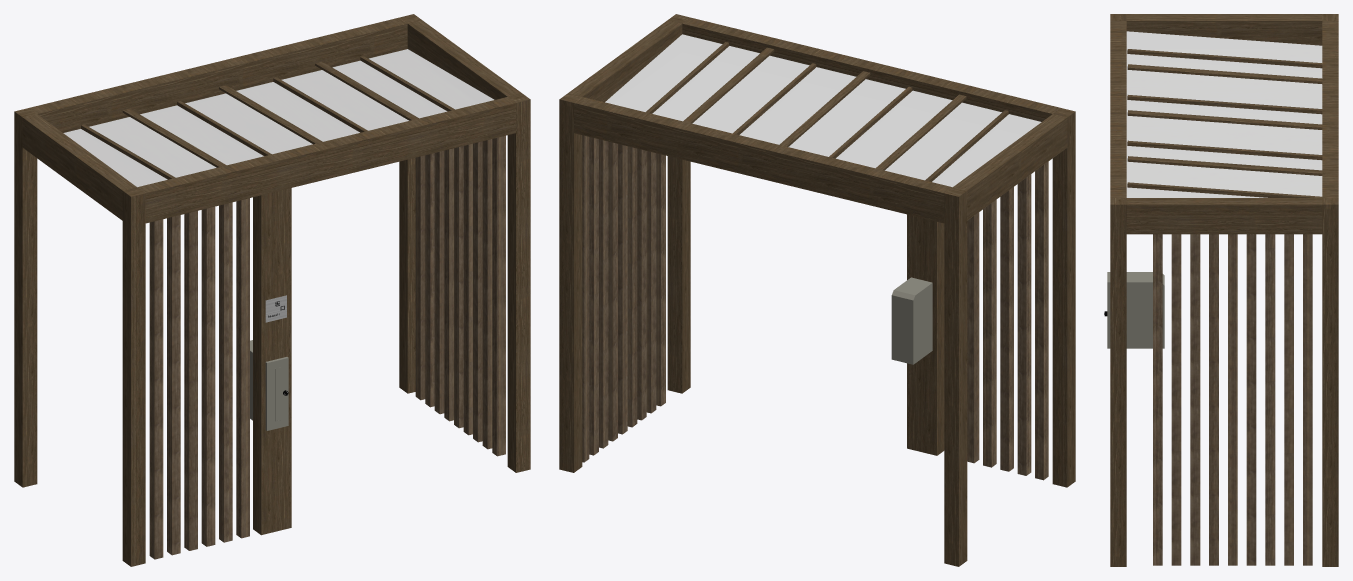
File: hy16-e_brownebony.fbx
The picture shows the model from 3 angles, left to right: view 1: azimuth 30°, elevation 25°; view 2: azimuth 150°, elevation 25°; view 3: azimuth 270°, elevation 25°; orthographic projection. The views are drawn at different scales.
Parts seen in each view (by area): view 1: hy16-e_brownebony; view 2: hy16-e_brownebony; view 3: hy16-e_brownebony.
Part boxes in pixels (x1,y1,x2,y2): hy16-e_brownebony: (14,14,530,566); hy16-e_brownebony: (559,14,1075,566); hy16-e_brownebony: (1104,14,1338,566).
Size of the model in its own units: 277 by 245 by 144.
Materials: 10 (7 with a texture image).
